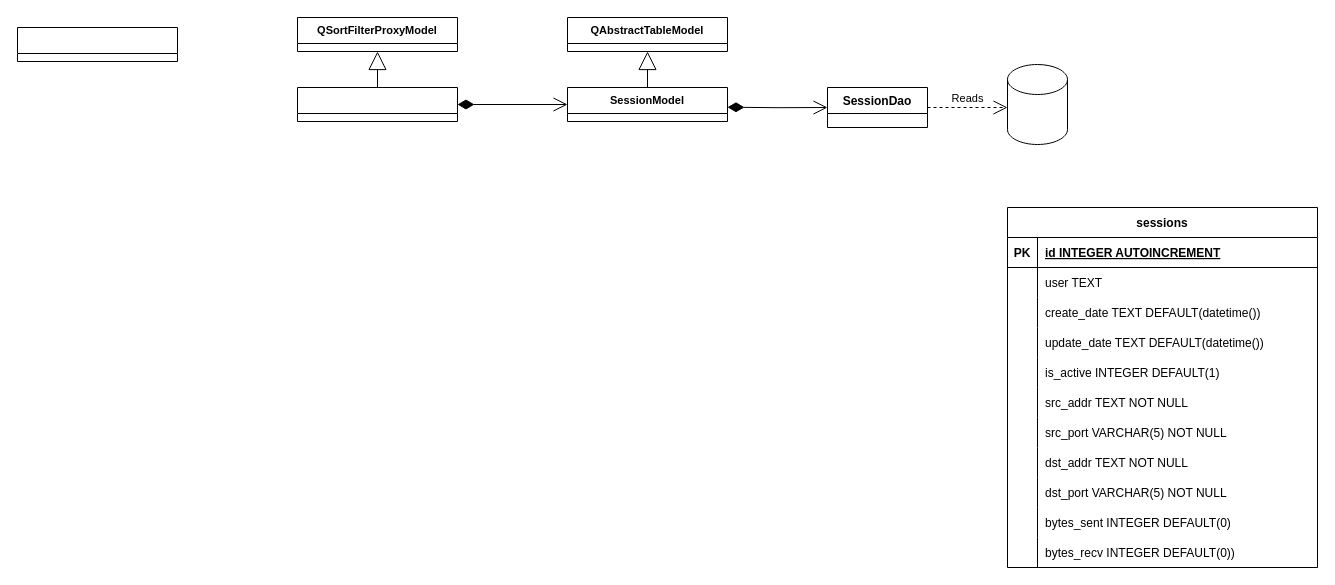
Image size: 1335x585. Some labels were removed from this diagram. Here are the shapes that lost their labels. From the top down, the centre of each, then its label:
the point at 97,44: main
the point at 377,104: SortFilterSessionModel
the point at 1037,104: DB
